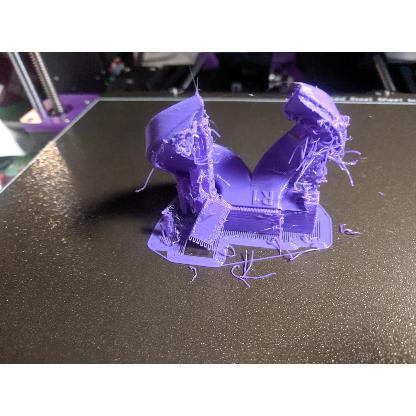fail: (295, 118, 357, 212), (173, 124, 209, 188), (224, 247, 276, 285)
